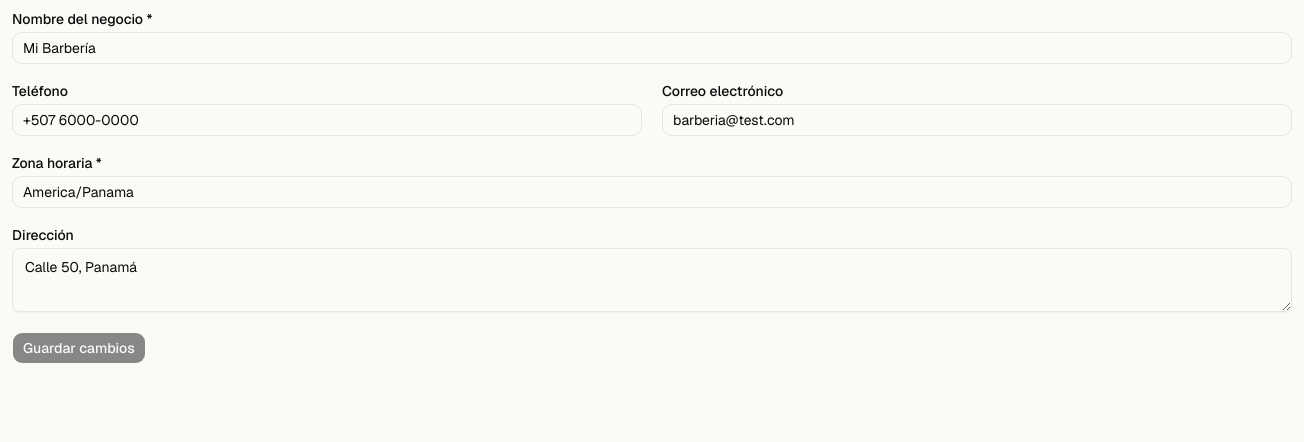
Test: EditBusinessForm — error del servidor › muestra error cuando el servidor falla
The width and height of the screenshot is (1304, 442).
Replace the text in the field labelled "Nombre del negocio *" with "Nueva Barbería" at (652, 48), box left=12, top=32, right=1292, bottom=64
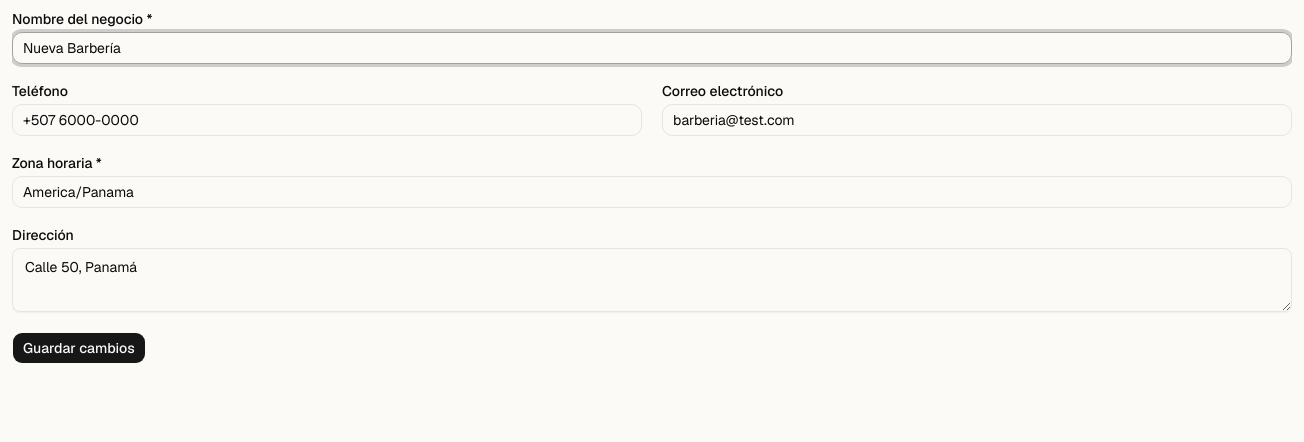
Click the button "Guardar cambios" at (79, 348), box left=12, top=332, right=146, bottom=364
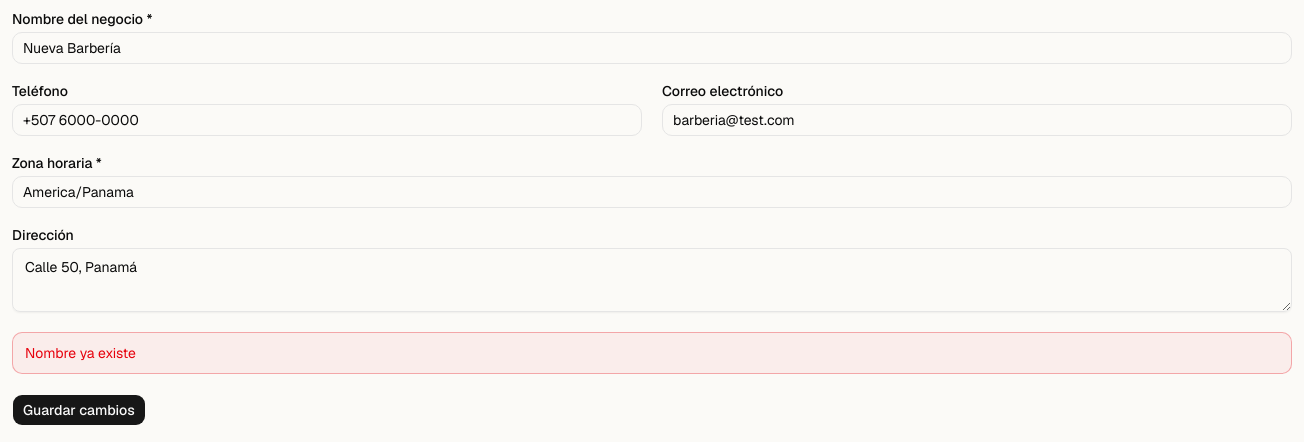
Expected: the text "Nombre ya existe" is shown, left=25, top=344, right=136, bottom=362
